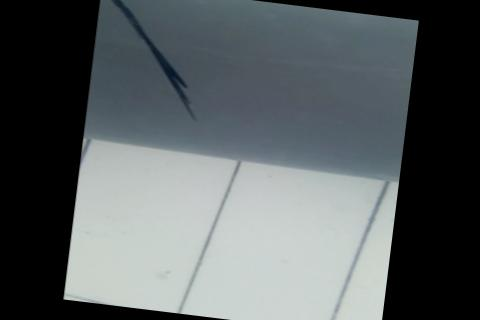keretakan: (85, 0, 214, 123)
